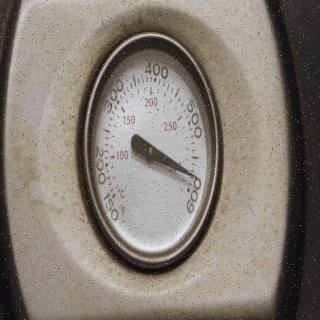gauge: (71, 17, 232, 282), (180, 170, 207, 194), (105, 187, 127, 216), (145, 140, 157, 162), (188, 170, 202, 183)
